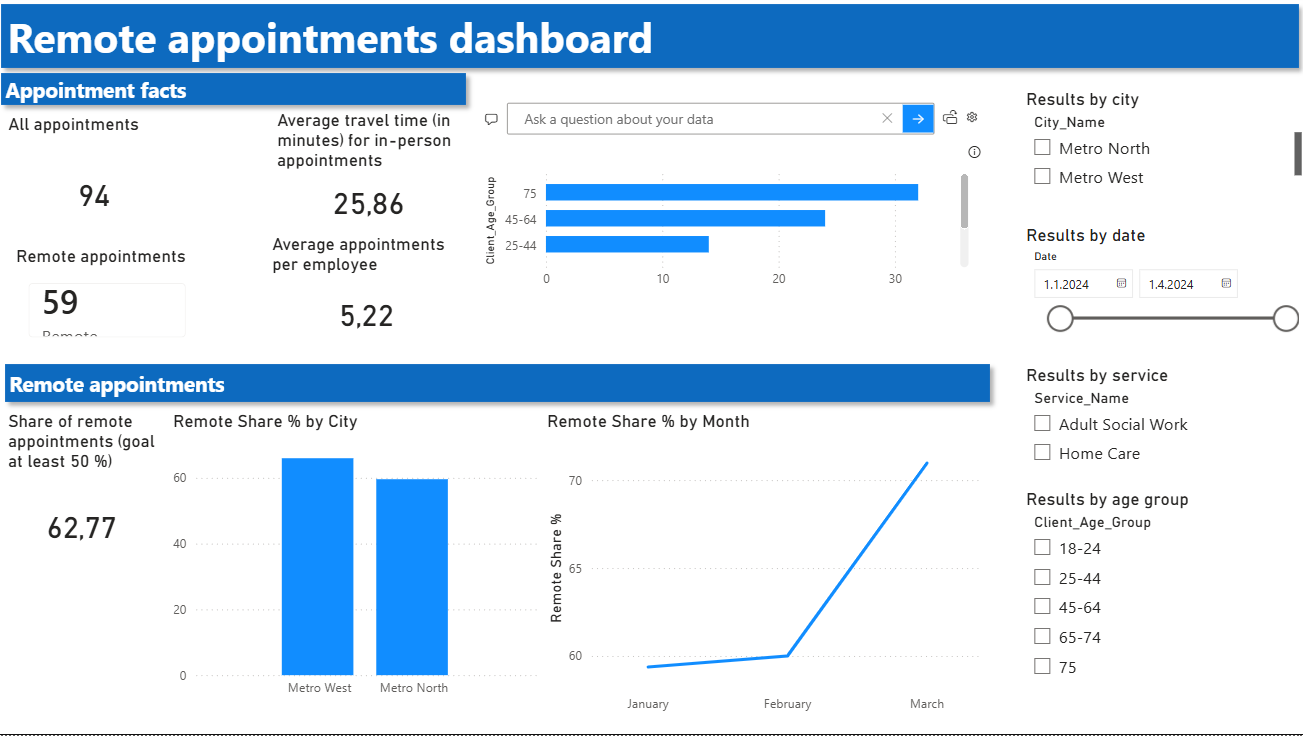

The page's visual inventory and layout, read from the dashboard file:
{"tool":"powerbi","page":{"name":"Page 1","canvas":[1280,720],"ordinal":0},"visuals":[{"type":"card","title":"All appointments","fields":{"Values":["fact_appointments.Total Appointments"]},"box":[10.7,115.7,177,136.2],"z":0},{"type":"card","title":"Share of remote appointments (goal at least 50 %)","fields":{"Values":["fact_appointments.Remote Share %"]},"box":[10.7,404.6,152.7,166.3],"z":1000},{"type":"card","title":"Average travel time (in minutes) for in-person appointments","fields":{"Values":["fact_appointments.Avg Travel Time"]},"box":[272.3,111.9,187.7,120.6],"z":2000},{"type":"columnChart","title":"Remote Share % by City","fields":{"Category":["dim_city.City_Name"],"Y":["fact_appointments.Remote Share %"]},"box":[171.2,404.6,363.8,286.9],"z":3000},{"type":"lineChart","fields":{"Category":["dim_date.Date.Variation.Date Hierarchy.Year","dim_date.Date.Variation.Date Hierarchy.Quarter","dim_date.Date.Variation.Date Hierarchy.Month","dim_date.Date.Variation.Date Hierarchy.Day"],"Y":["fact_appointments.Remote Share %"]},"box":[535,404.6,433.8,302.5],"z":4000},{"type":"card","title":"Average appointments per employee","fields":{"Values":["fact_appointments.Appointments per Employee"]},"box":[267.5,232.5,192.6,117.7],"z":5000},{"type":"slicer","title":"Results by city","fields":{"Values":["dim_city.City_Name"]},"box":[1000.9,91.4,279.1,101.2],"z":6000},{"type":"slicer","title":"Results by date","fields":{"Values":["dim_date.Date"]},"box":[1000.9,223.7,279.1,111.9],"z":7000},{"type":"slicer","title":"Results by service","fields":{"Values":["dim_services.Service_Name"]},"box":[1000.9,359.9,279.1,104.1],"z":8000},{"type":"slicer","title":"Results by age group","fields":{"Values":["dim_clients.Client_Age_Group"]},"box":[1000.9,480.5,279.1,196.5],"z":9000},{"type":"shape","box":[0,0,1280,79.8],"z":10000},{"type":"shape","box":[0,67.1,469.8,48.6],"z":11000},{"type":"shape","box":[3.9,350.2,975.6,54.5],"z":12000},{"type":"qnaVisual","box":[469.8,79.8,499,262.6],"z":12001},{"type":"cardVisual","title":"Remote appointments","fields":{"Data":["fact_appointments.Remote Appointments"]},"box":[18.5,244.1,187.7,106],"z":12002}]}

Visuals, with their boxes in screenshot pixels (x1, y1, x2, y2), scaled from the page's 1280x720 canvas onto the 1303x736 screenshot:
"All appointments" card: bbox=[11, 118, 191, 257]
"Share of remote appointments (goal at least 50 %)" card: bbox=[11, 414, 166, 584]
"Average travel time (in minutes) for in-person appointments" card: bbox=[277, 114, 468, 238]
"Remote Share % by City" columnChart: bbox=[174, 414, 545, 707]
lineChart - dim_date.Date.Variation.Date Hierarchy.Year x dim_date.Date.Variation.Date Hierarchy.Quarter: bbox=[545, 414, 986, 723]
"Average appointments per employee" card: bbox=[272, 238, 468, 358]
"Results by city" slicer: bbox=[1019, 93, 1302, 197]
"Results by date" slicer: bbox=[1019, 229, 1302, 343]
"Results by service" slicer: bbox=[1019, 368, 1302, 474]
"Results by age group" slicer: bbox=[1019, 491, 1302, 692]
shape: bbox=[0, 0, 1302, 82]
shape: bbox=[0, 69, 478, 118]
shape: bbox=[4, 358, 997, 414]
qnaVisual: bbox=[478, 82, 986, 350]
"Remote appointments" cardVisual: bbox=[19, 250, 210, 358]
